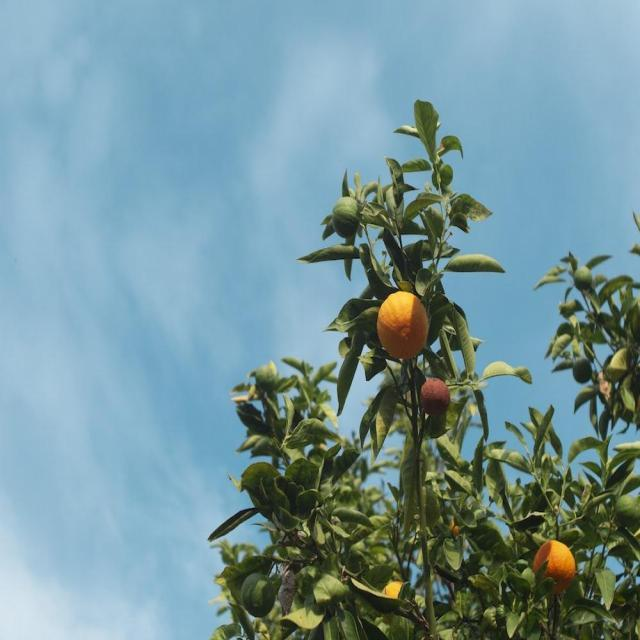Jeruk Belum Matang: (241, 572, 276, 617), (332, 194, 361, 240), (574, 262, 596, 290), (574, 354, 593, 386)
Jeruk Sudah Matang: (376, 290, 429, 360), (533, 539, 575, 594), (418, 378, 452, 416), (381, 580, 408, 605)
